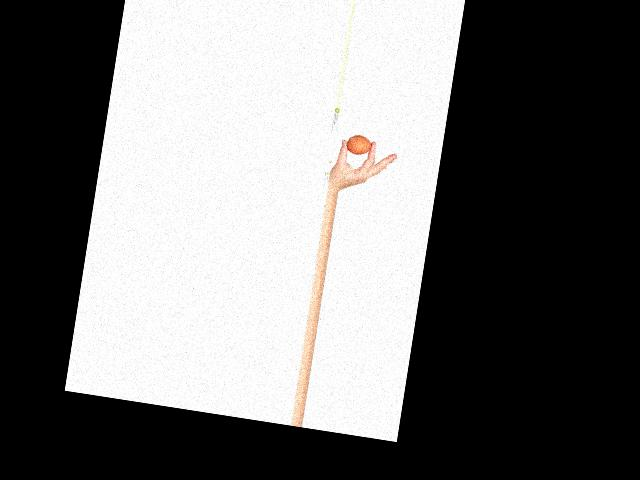egg: (344, 133, 372, 157)
